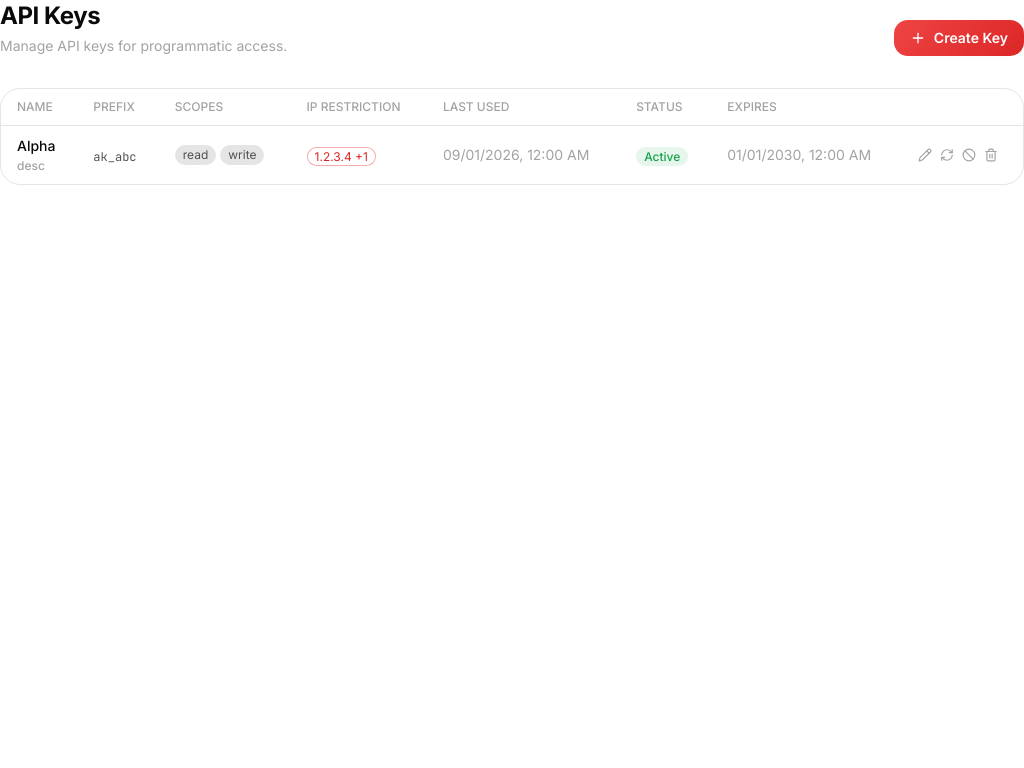
Test: ApiKeysPage — edit › opens the edit modal pre-filled and saves changes
The width and height of the screenshot is (1024, 768).
Click the button with test id "key-edit-btn".
click(925, 155)  # box x1=918 y1=148 x2=932 y2=162
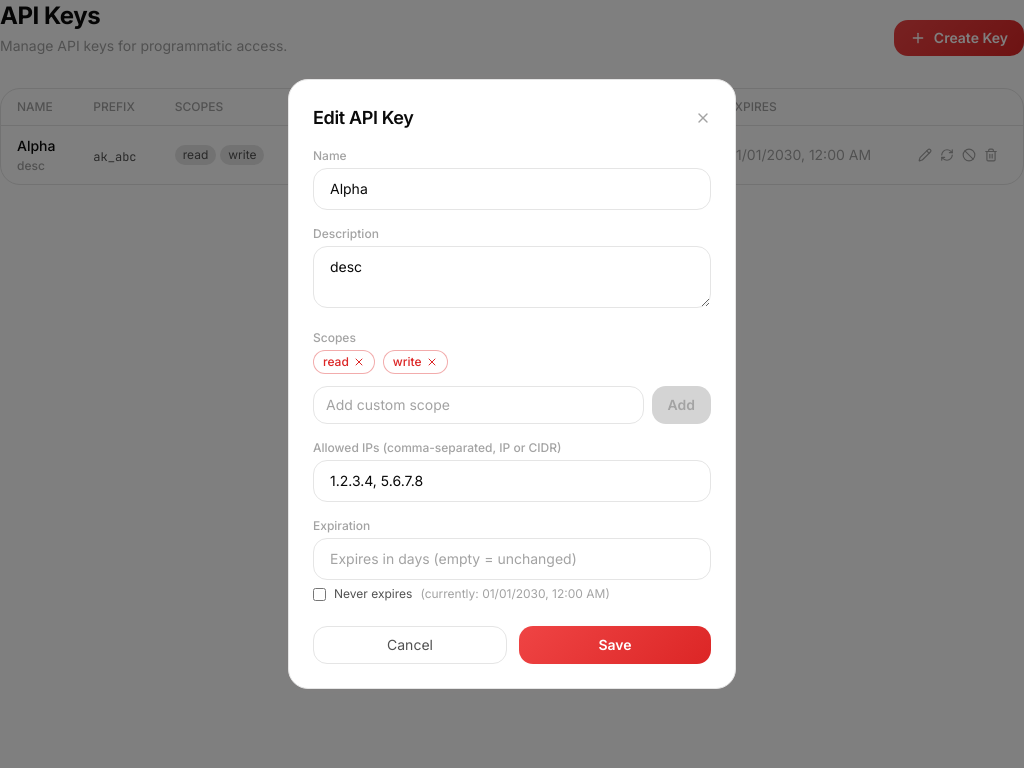
Expected: the element with test id "key-edit-modal" is shown, x1=288 y1=79 x2=736 y2=689
Expected: the field with test id "key-edit-name-input" holds "Alpha"
Replace the text in the field with test id "key-edit-name-input" with "Renamed" at (512, 189), box x1=313 y1=168 x2=711 y2=210
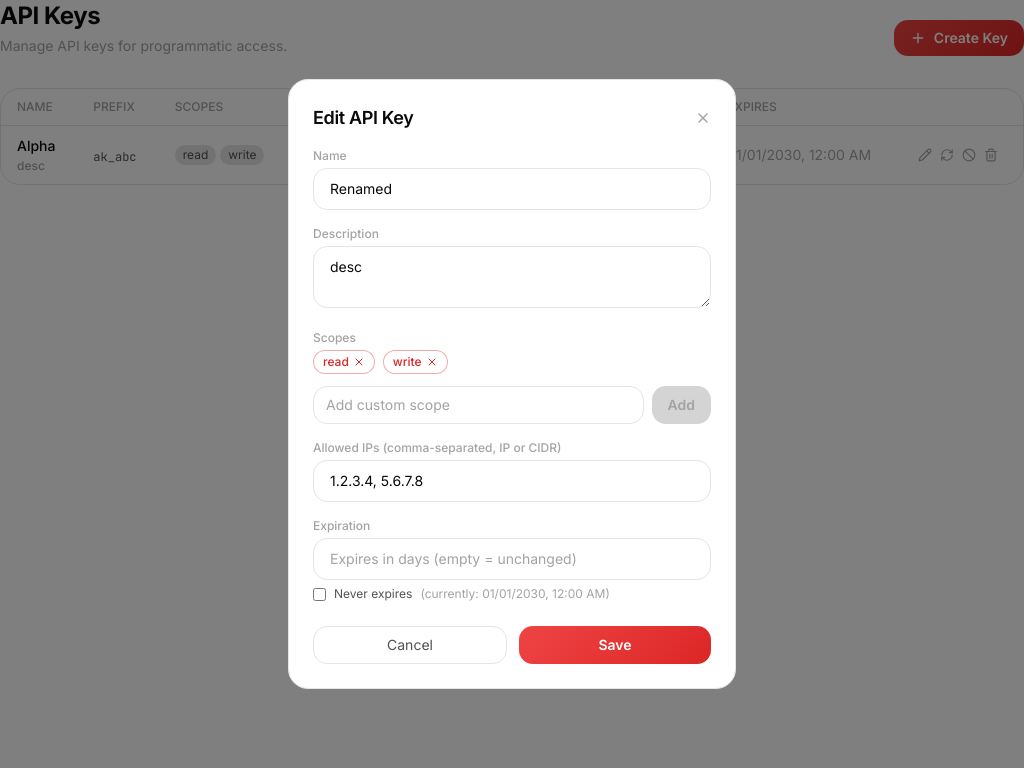
Click the checkbox with test id "key-edit-never-expires-toggle".
click(320, 594)  # box x1=313 y1=588 x2=326 y2=600
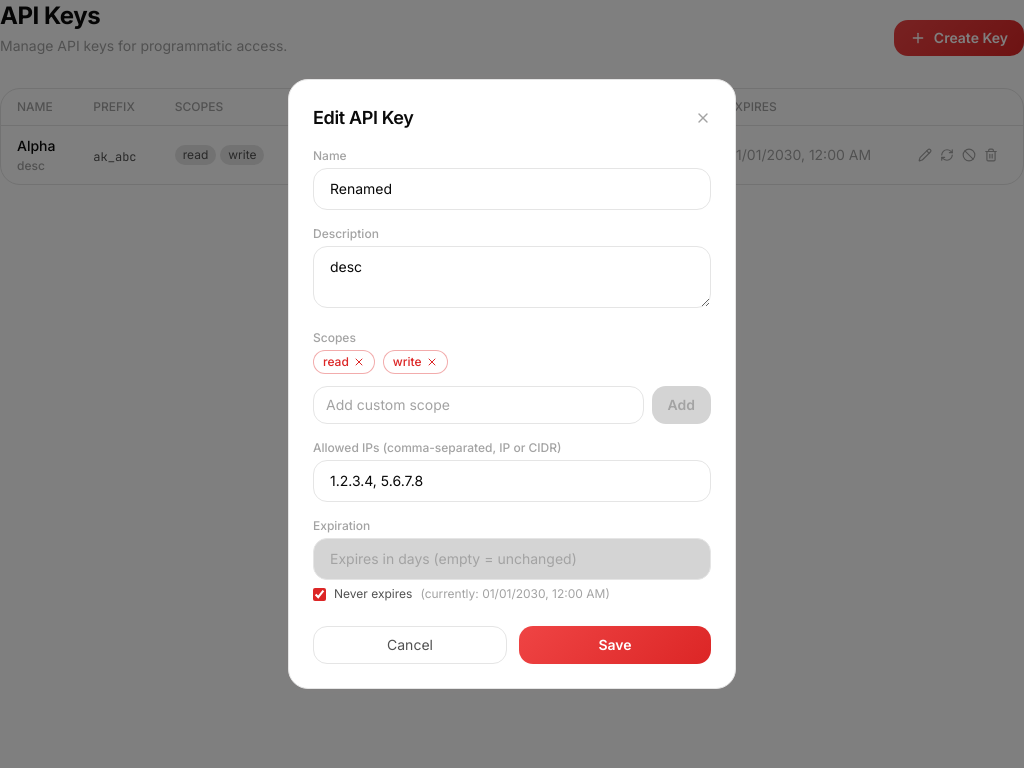
Click the button with test id "key-edit-submit".
click(615, 645)  # box x1=519 y1=626 x2=711 y2=664
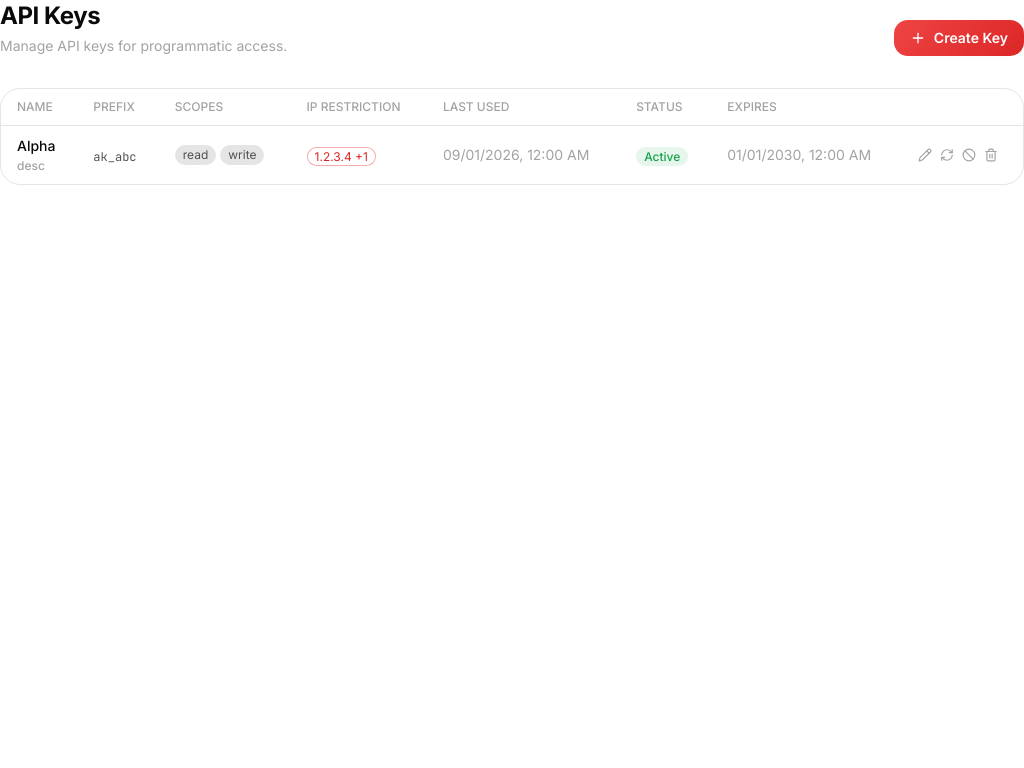
Expected: the element with test id "key-edit-modal" is gone
